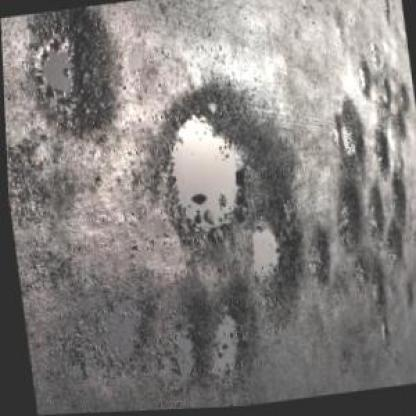pothole: (146, 73, 292, 254), (44, 287, 160, 390), (243, 218, 308, 333), (143, 290, 211, 399), (194, 282, 258, 392), (325, 178, 366, 255), (329, 96, 366, 172), (347, 251, 391, 312), (301, 223, 333, 291), (377, 221, 404, 268), (368, 129, 391, 180), (384, 174, 406, 224), (353, 62, 372, 102), (392, 114, 406, 141), (379, 79, 391, 107), (398, 87, 408, 111)
